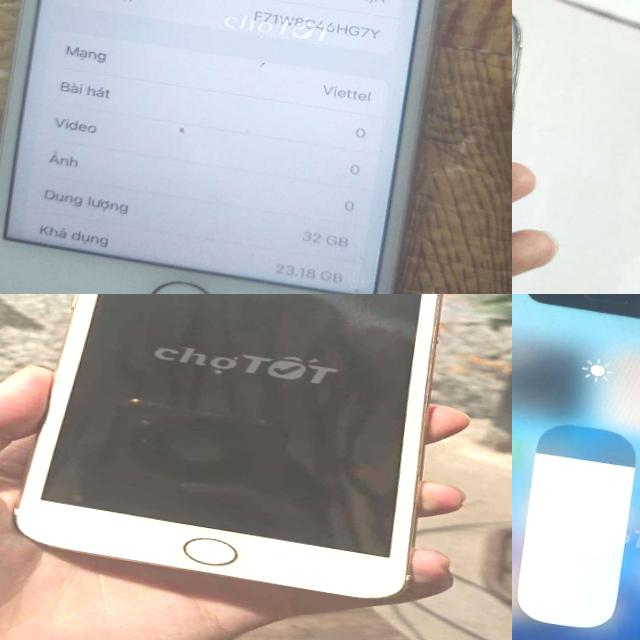gen_12_13: (512, 0, 553, 294)
gen_7_8: (10, 294, 471, 613), (0, 0, 498, 294)
gen_x_xs: (512, 294, 640, 640)
